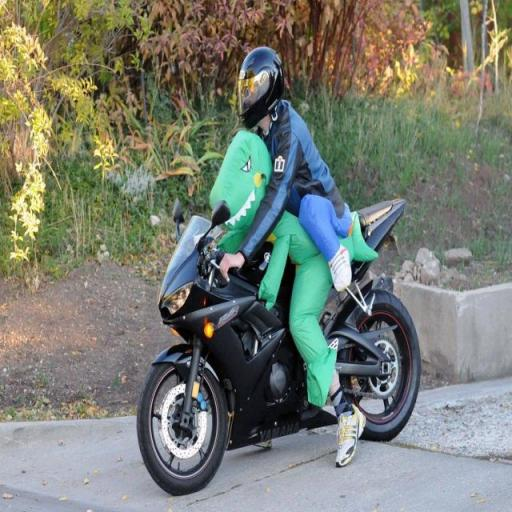Helmet: (236, 39, 292, 127)
Motor: (126, 217, 429, 477)
